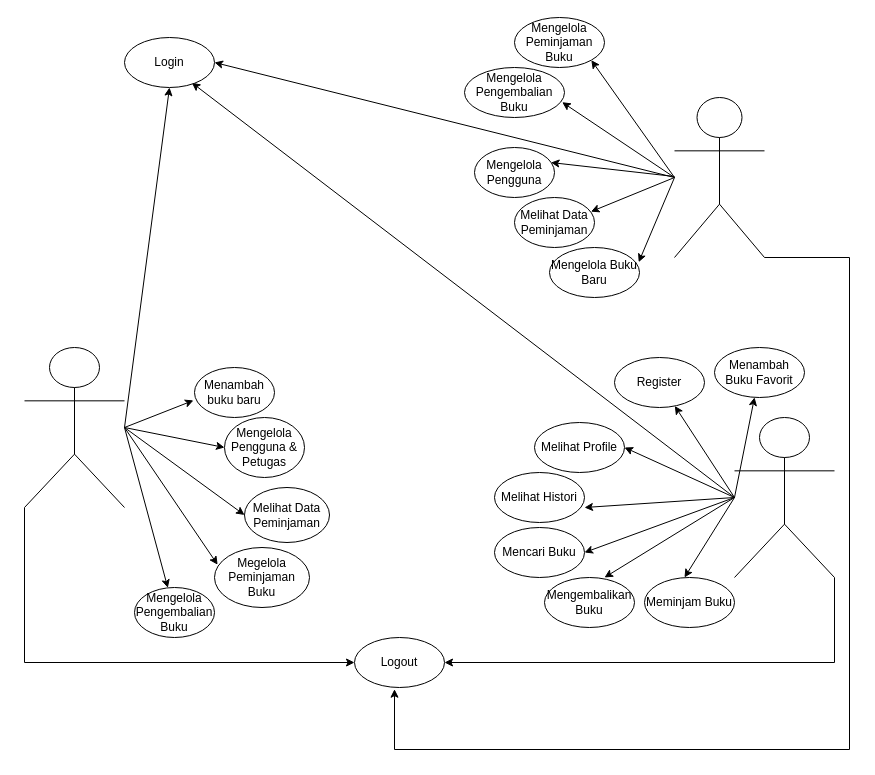
Image size: 875x775. Some labels were removed from this diagram. Here are the shapes that lost their labels. From the top down, the box of each, then its label:
(674, 96, 764, 258): Petugas
(24, 346, 124, 508): Admin
(734, 416, 834, 578): User
